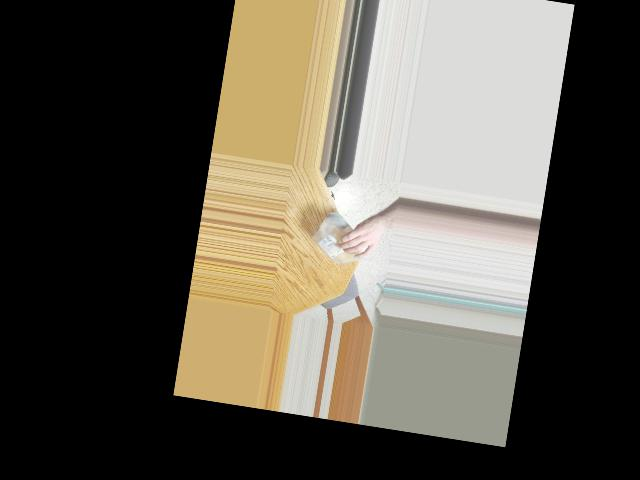cheese: (306, 209, 376, 270)
